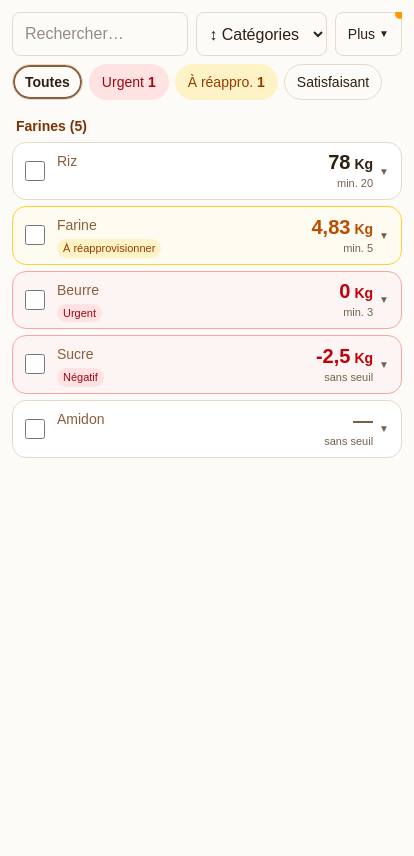
dépliage des détails (lecture seule) › un seul article déplié à la fois
Click the button "4,83Kg min. 5 ▼" at (352, 235), box x1=304 y1=207 x2=401 y2=264
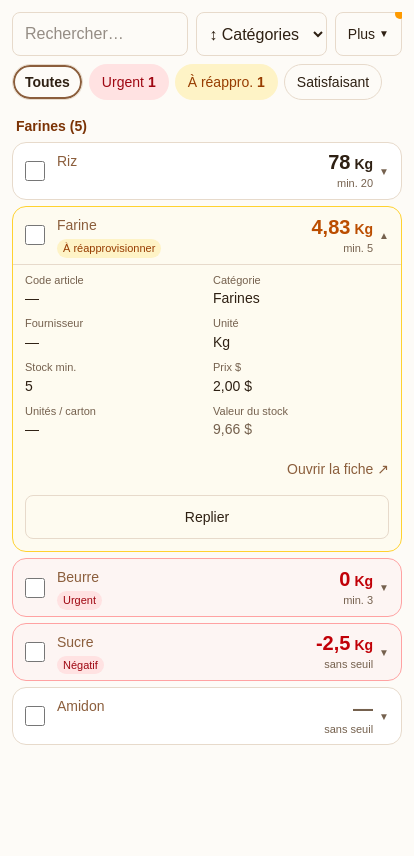
Click the button "78Kg min. 20 ▼" at (361, 171), box x1=320 y1=143 x2=401 y2=199
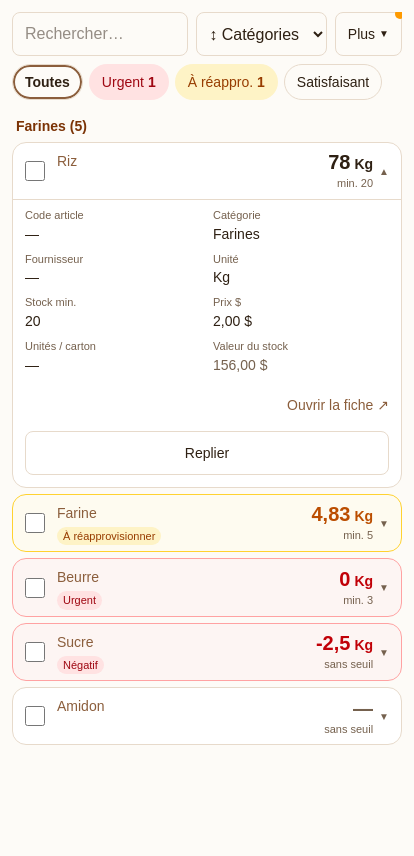
Expected: the button "78Kg min. 20 ▲" is expanded, x1=320 y1=143 x2=401 y2=199
